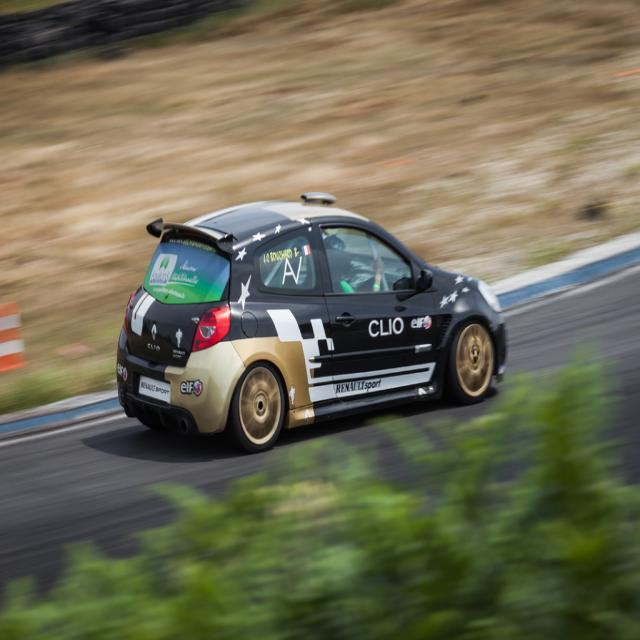car: (114, 190, 508, 453)
